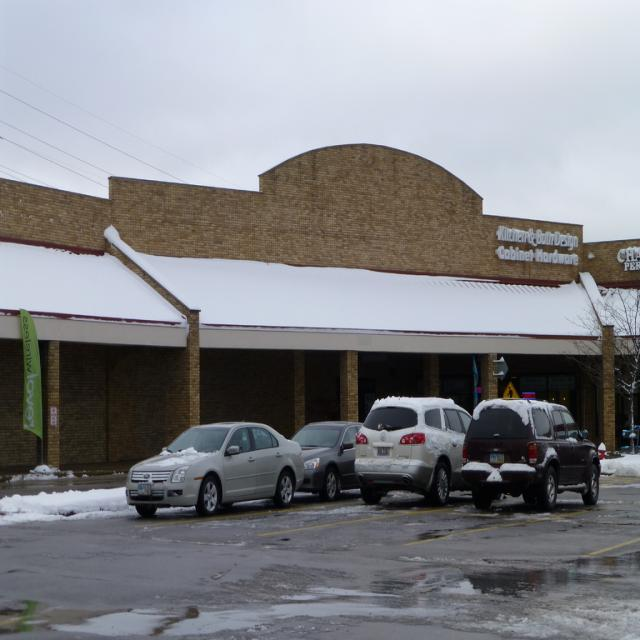car: (121, 418, 316, 520), (458, 394, 599, 510)
